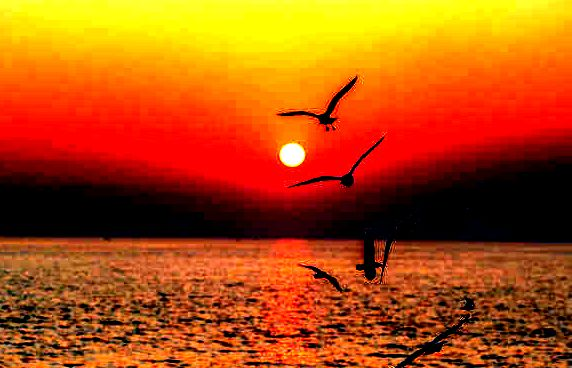Bird: (284, 132, 386, 189), (275, 75, 358, 134), (297, 262, 350, 293), (354, 233, 385, 282)
